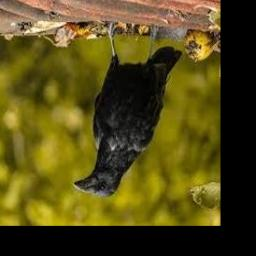Crow: (73, 25, 182, 198)
